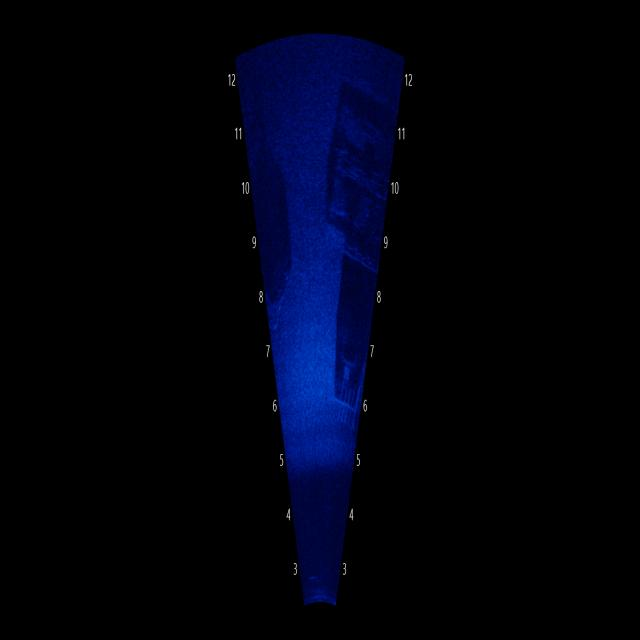square: (323, 229, 366, 441)
